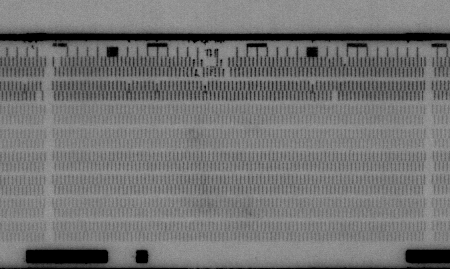Broken hole: (220, 55, 234, 80), (201, 55, 219, 68), (328, 90, 341, 104), (51, 56, 62, 68), (33, 91, 44, 102)
Oblique printing: (189, 56, 202, 79), (307, 80, 318, 95), (122, 79, 134, 92), (200, 80, 210, 94), (340, 56, 351, 68), (19, 81, 29, 94), (152, 81, 162, 94)
